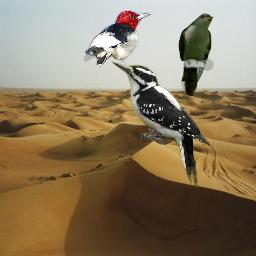Cuckoo: (178, 13, 214, 96)
Woodpecker: (111, 58, 210, 188), (84, 10, 154, 68)
